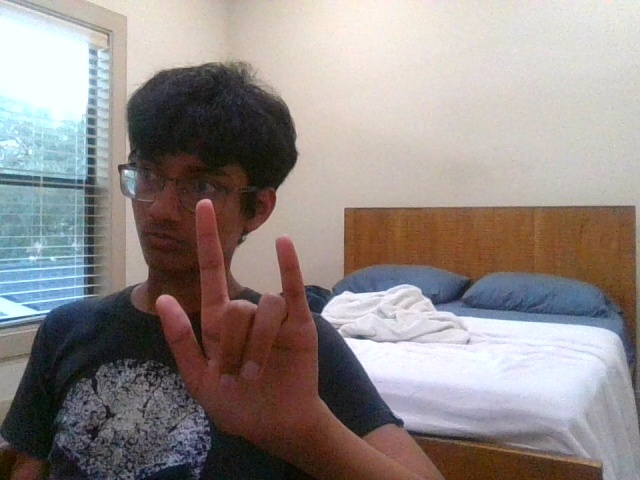ly: (155, 199, 319, 443)
